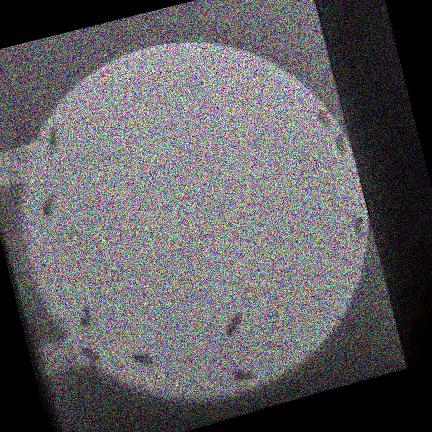fly: (226, 313, 242, 334), (81, 347, 101, 363), (48, 125, 59, 153), (317, 108, 332, 128), (231, 369, 255, 381), (134, 352, 154, 366), (43, 193, 55, 216), (335, 132, 347, 154), (354, 214, 364, 238), (80, 307, 91, 326)
